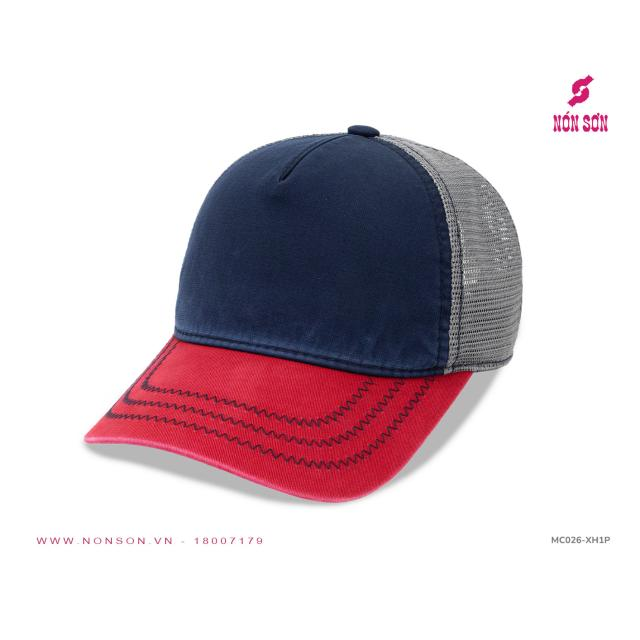Cap: (92, 117, 530, 513)
